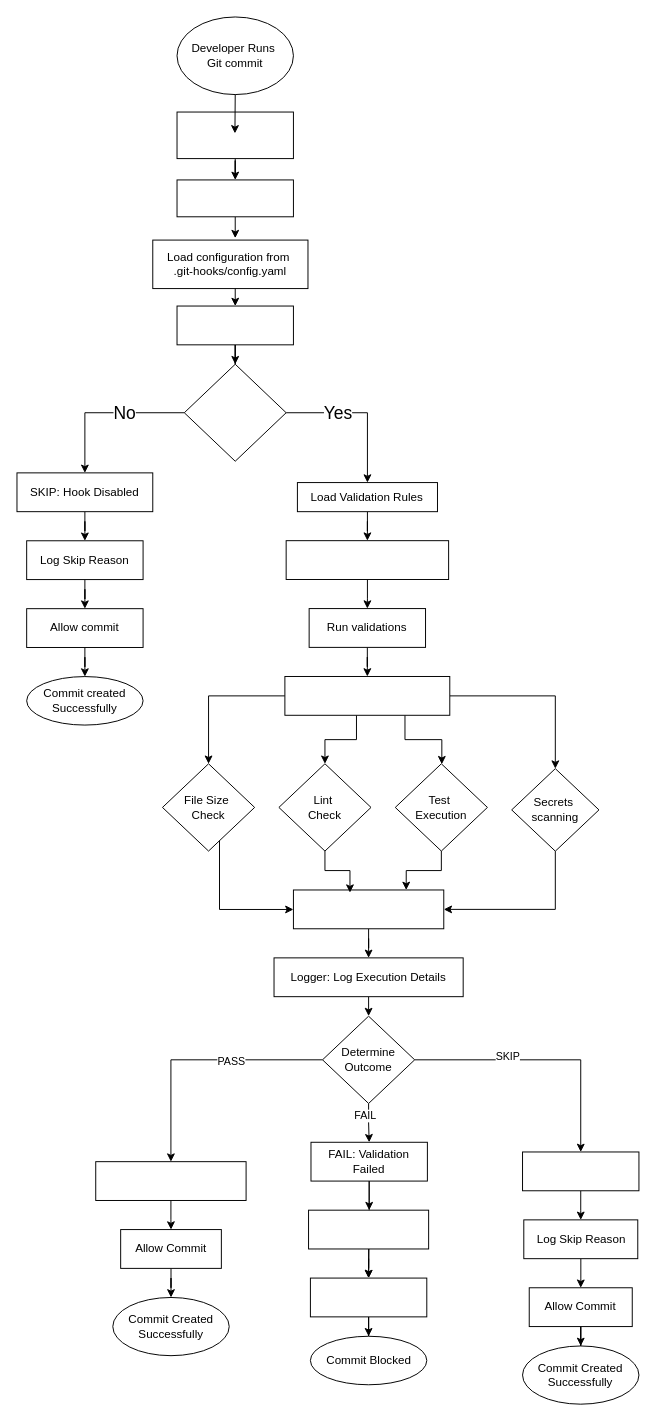
The diagram is 657 pixels wide and 1422 high, and some of its shapes have lost their labels. Each missing label, with the box of its shape:
Block Commit: (309, 1277, 427, 1317)
Collect Validation Results: (292, 889, 444, 929)
Display Errors to Developer: (308, 1209, 429, 1249)
Git triggers Pre-Commit Hook: (176, 111, 293, 159)
Hook Runner: (176, 179, 293, 217)
Initialize Validation Engine: (285, 540, 449, 579)
Is hook enabled?: (183, 363, 286, 461)
Parse configuration: (176, 305, 293, 345)
PASS: All Validations passed: (95, 1161, 246, 1200)
SKIP: Rule Skipped: (522, 1151, 639, 1191)
Stage: Pre-commit checks: (284, 676, 450, 715)
